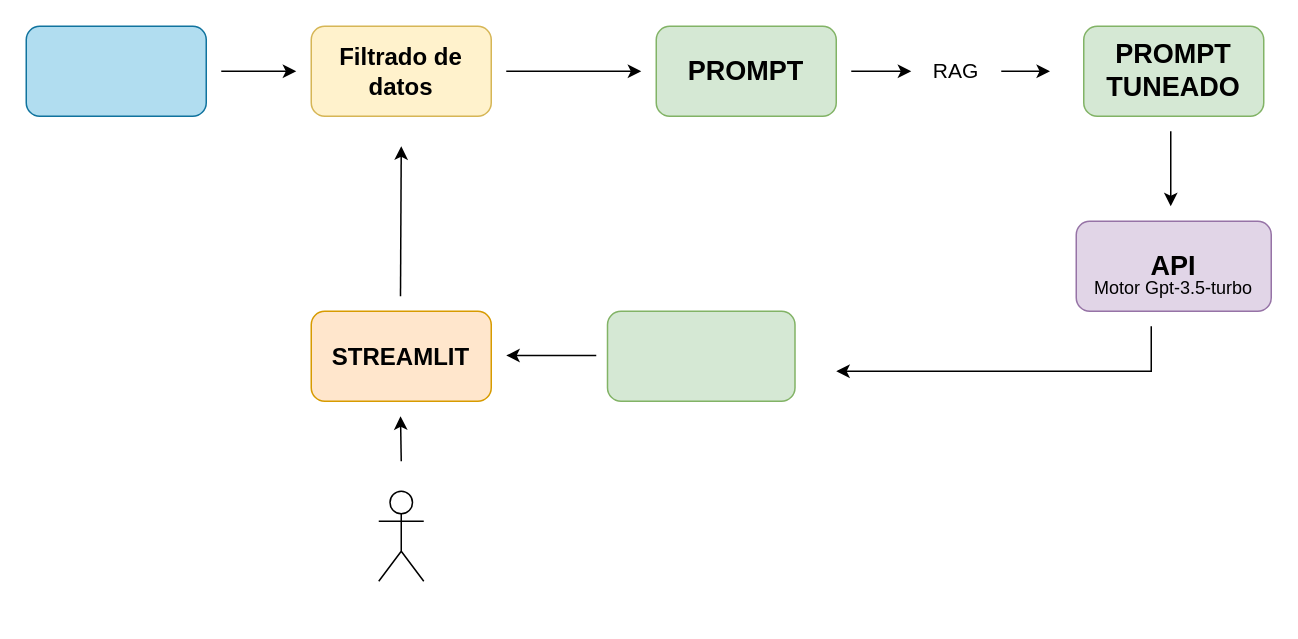
Some shapes in this 1298 by 639 pixel diagram are drawn without their labels. The shapes that lost their labels are listed below. From the top down, each one's centre as x and y in pixels, then its label:
point (115, 70): CSV
point (700, 355): RESPUESTA GENERADA
point (400, 535): USER
